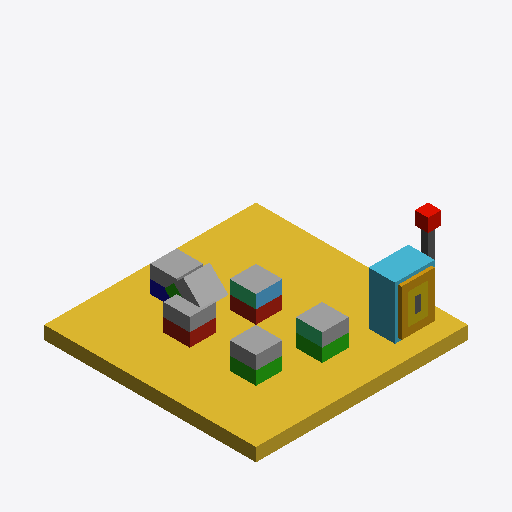
Isometric view (azimuth 45°, elevation 35.3°) of a Minecraft model made of 13 cuboids, textured from the same repository.
Visible parts, largest first — element 1, element 3, element 10, element 12, element 11, element 4, element 8, element 13, element 9, element 6.
Boxes of the visible parts, x1,y1,x2,y2 form: element 1: [44, 203, 467, 461]; element 3: [369, 245, 434, 343]; element 10: [296, 302, 348, 362]; element 12: [230, 264, 281, 324]; element 11: [230, 325, 281, 385]; element 4: [398, 266, 434, 339]; element 8: [163, 294, 215, 347]; element 13: [165, 263, 227, 307]; element 9: [150, 248, 202, 301]; element 6: [415, 203, 440, 232].
Size of the model in its own units: 16 by 11 by 16.